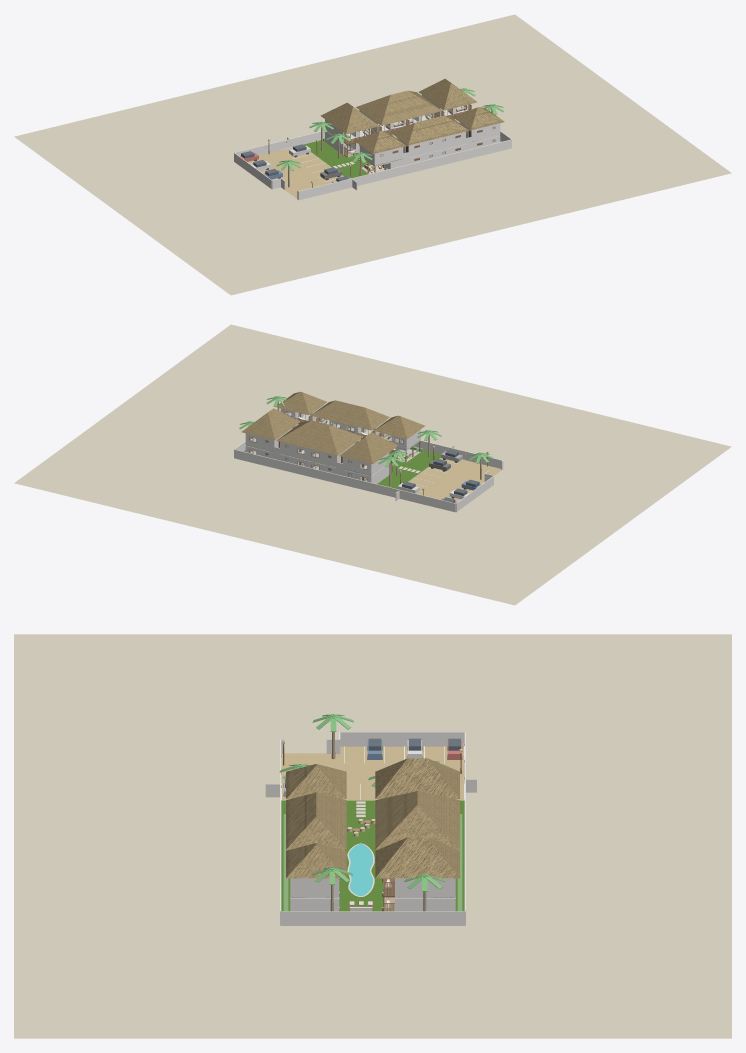
Rendered from hotel.glb.
3 renders of one model, top to bottom at view 1: azimuth 30°, elevation 25°; view 2: azimuth 150°, elevation 25°; view 3: azimuth 270°, elevation 25°, orthographic. The views are drawn at different scales.
Size of the model in its own units: 120 by 9.78 by 90.
Materials: 71 (8 with a texture image).
